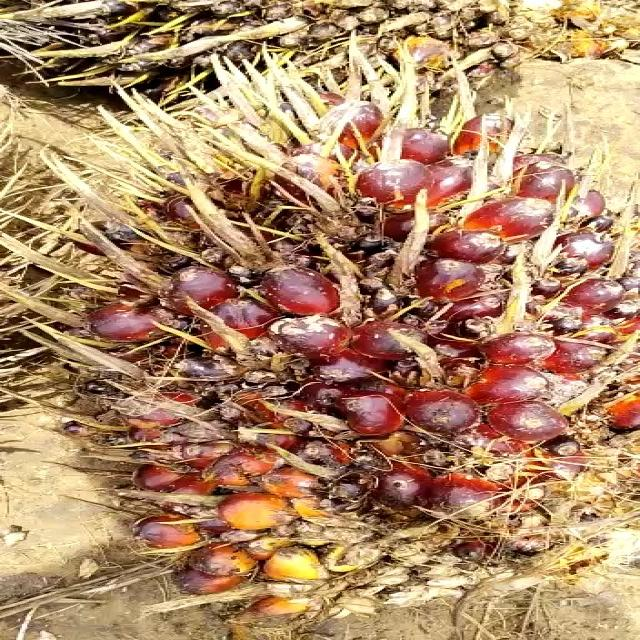palm oil: (16, 79, 640, 634)
